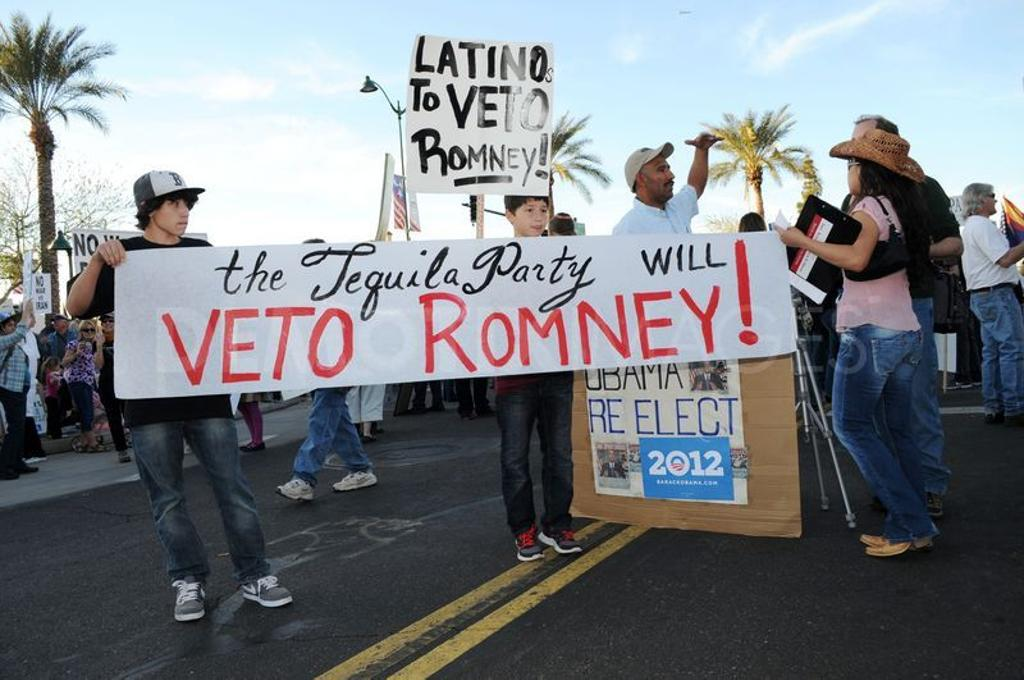face: (159, 189, 189, 236), (645, 156, 675, 200), (515, 200, 548, 237), (851, 124, 880, 157), (848, 158, 871, 197), (984, 190, 997, 217), (82, 325, 95, 339), (103, 317, 115, 332), (5, 321, 17, 335), (53, 320, 64, 330)
